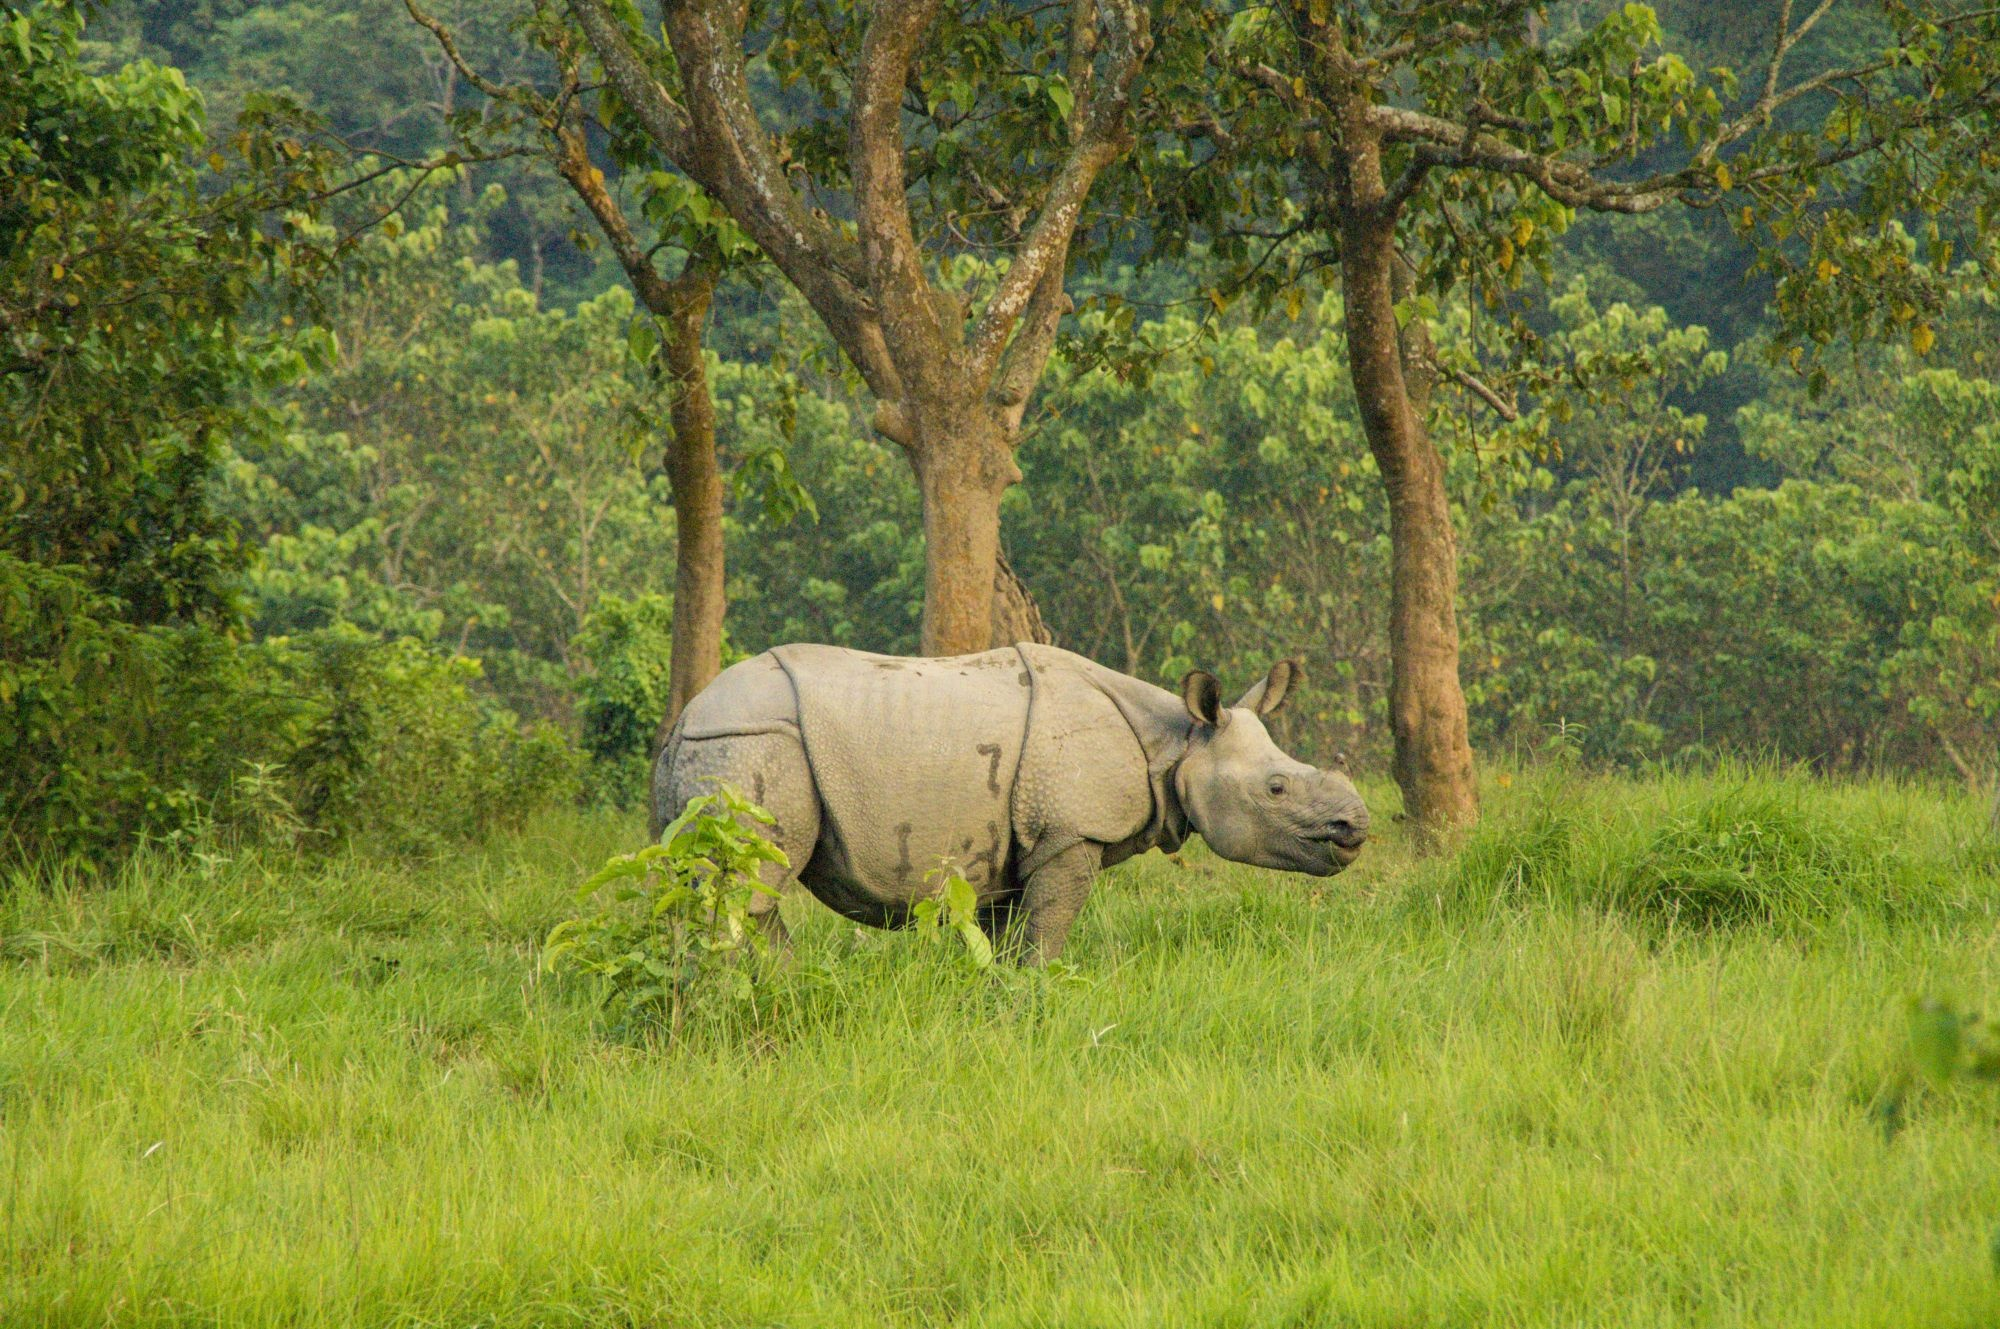rhino: (1017, 817, 1757, 1194)
